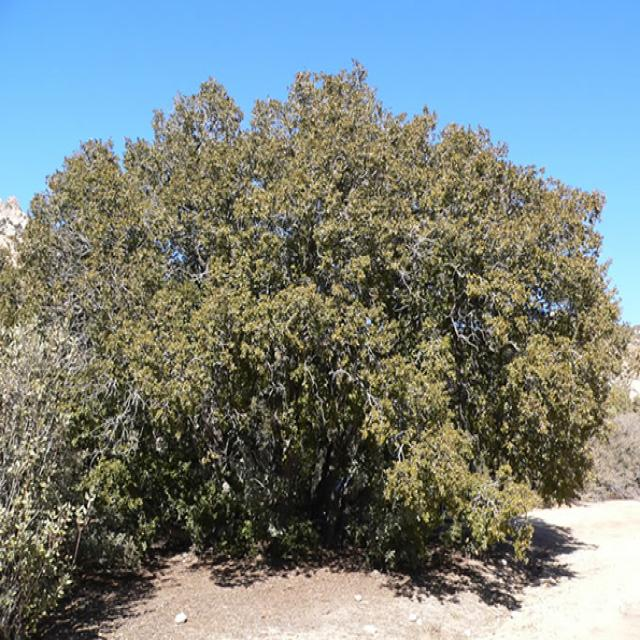Quercus chrysolepis: (0, 63, 635, 572)
